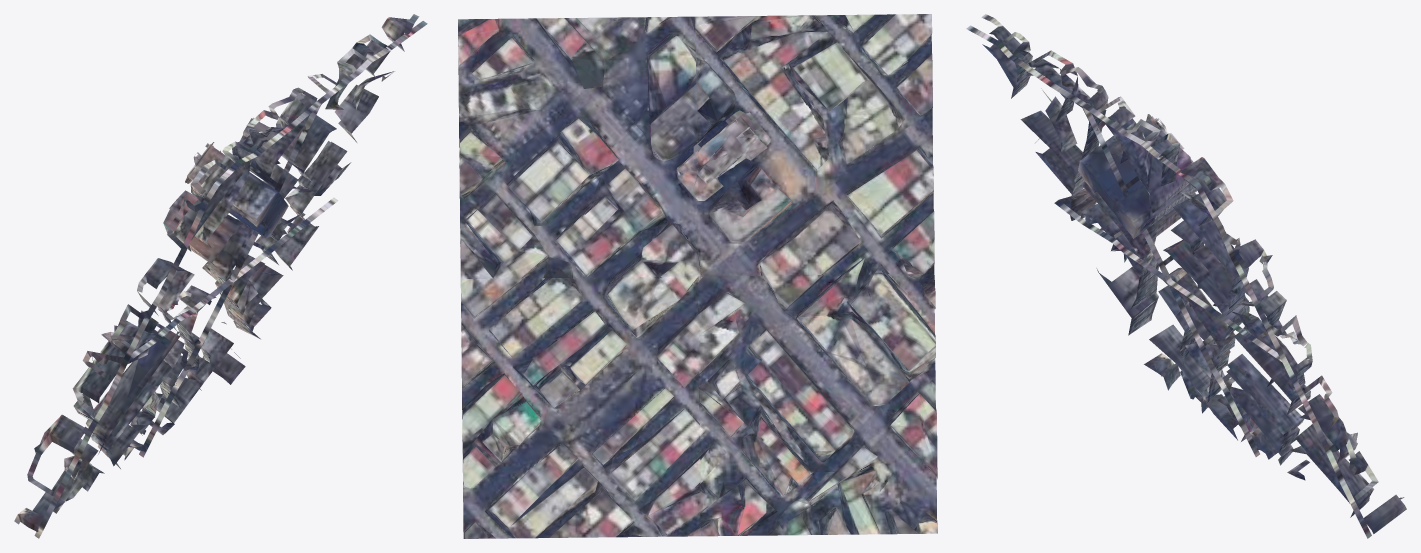
The picture shows the model from 3 angles, left to right: view 1: azimuth 30°, elevation 25°; view 2: azimuth 150°, elevation 25°; view 3: azimuth 270°, elevation 25°; orthographic projection. The views are drawn at different scales.
Bounding box in the file's own units: 314 × 286 × 279.
1 material, 1 textured.
